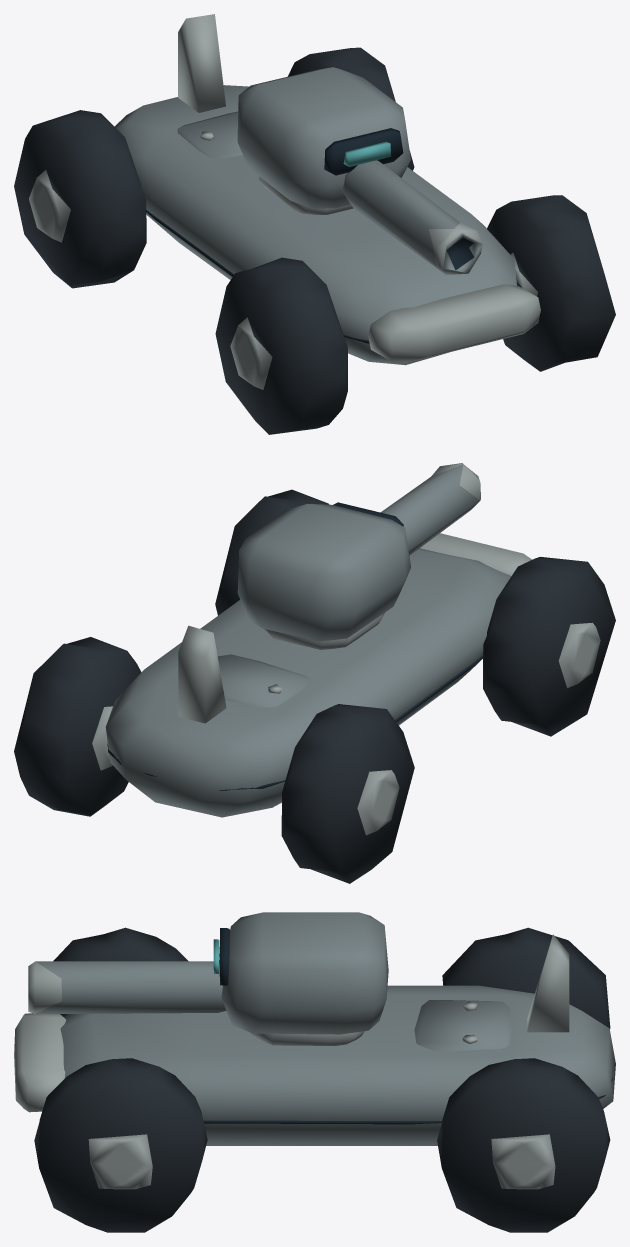
File: TOY_SCOUT.far.glb
The picture shows the model from 3 angles, top to bottom: view 1: azimuth 30°, elevation 25°; view 2: azimuth 150°, elevation 25°; view 3: azimuth 270°, elevation 25°; orthographic projection.
Parts seen in each view (by area): view 1: Body, WheelsFront, WheelsRear, TurretYaw, BarrelRecoil; view 2: Body, WheelsRear, WheelsFront, TurretYaw, BarrelRecoil; view 3: Body, WheelsRear, WheelsFront, TurretYaw, BarrelRecoil.
Part boxes in pixels (<box>): Body: <box>114,14,540,365</box>; WheelsFront: <box>215,195,615,434</box>; WheelsRear: <box>14,47,414,288</box>; TurretYaw: <box>237,67,410,214</box>; BarrelRecoil: <box>342,160,482,274</box>; Body: <box>105,533,531,817</box>; WheelsRear: <box>14,637,414,883</box>; WheelsFront: <box>215,489,615,736</box>; TurretYaw: <box>237,502,411,649</box>; BarrelRecoil: <box>380,463,480,555</box>; Body: <box>14,934,615,1145</box>; WheelsRear: <box>437,927,610,1232</box>; WheelsFront: <box>34,927,207,1232</box>; TurretYaw: <box>213,912,388,1045</box>; BarrelRecoil: <box>28,961,226,1013</box>.
Size of the model in its own units: 0.6526 by 0.4252 by 1.
